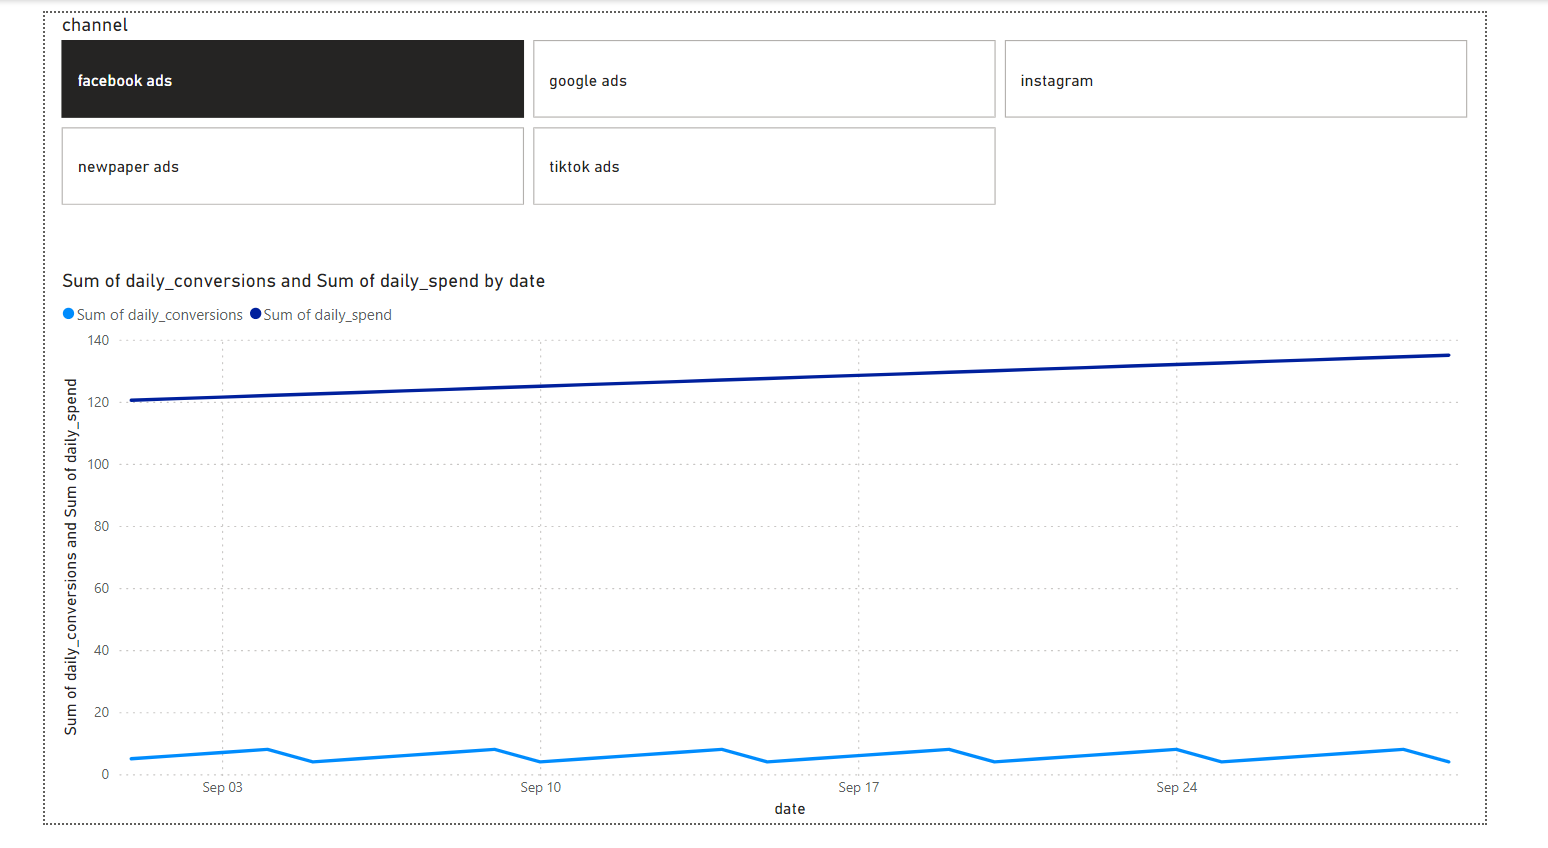

The dashboard page shown, as its layout file describes it:
{"tool":"powerbi","page":{"name":"Daily spend and conversions over time","canvas":[1280,720],"ordinal":1},"visuals":[{"type":"advancedSlicerVisual","fields":{"Values":["Query3.channel"]},"box":[9.6,0,1259.7,175.6],"z":0},{"type":"lineChart","fields":{"Category":["Query3.date"],"Y":["Sum(Query3.daily_conversions)","Sum(Query3.daily_spend)"]},"box":[9.6,227.8,1261.1,492.6],"z":1}]}

Visuals, with their boxes in screenshot pixels (x1, y1, x2, y2), scaled from the page's 1280x720 canvas onto the 1548x848 screenshot:
advancedSlicerVisual - Query3.channel: [x1=12, y1=0, x2=1535, y2=207]
lineChart - Query3.date x Sum(Query3.daily_conversions): [x1=12, y1=268, x2=1537, y2=847]
